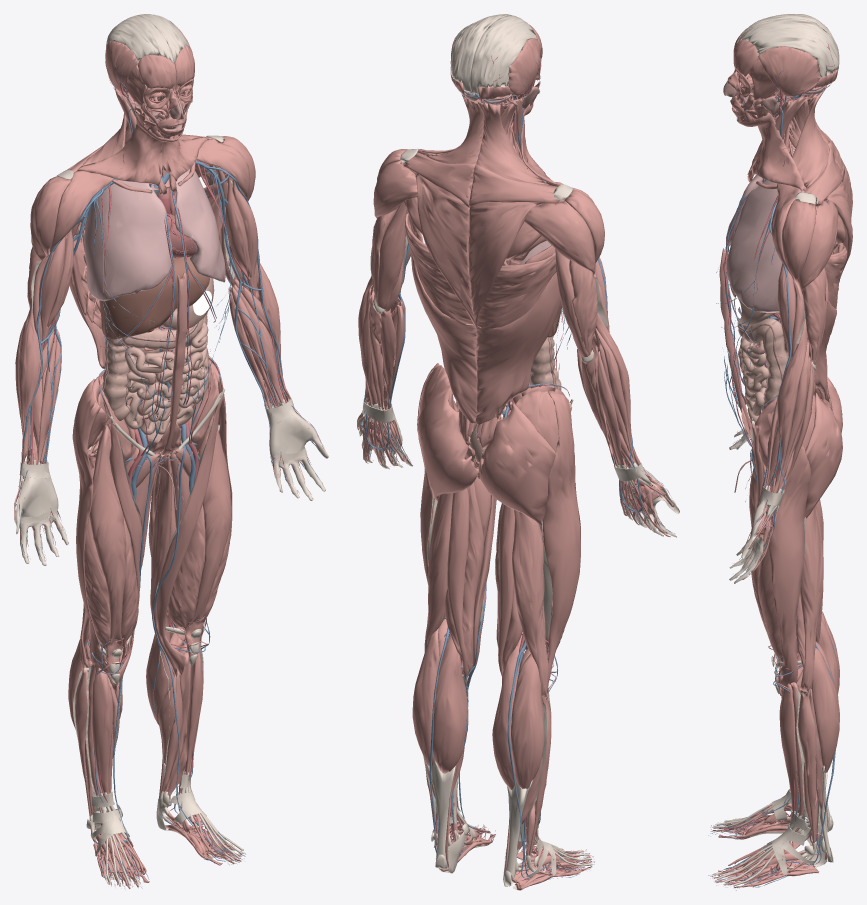
File: soma-anatomy.glb
3 renders of one model, left to right at view 1: azimuth 30°, elevation 25°; view 2: azimuth 150°, elevation 25°; view 3: azimuth 270°, elevation 25°, orthographic. The views are drawn at different scales.
Visible parts, largest first — view 1: Lateral rectus muscle.l; view 2: Lateral rectus muscle.l; view 3: Lateral rectus muscle.l.
Part boxes in pixels (box(x1,y1,x2,y2)): Lateral rectus muscle.l: box(14, 14, 328, 888); Lateral rectus muscle.l: box(357, 14, 679, 890); Lateral rectus muscle.l: box(708, 14, 852, 890).
Bounding box in the file's own units: 0.6706 × 1.7 × 0.2664.
2 materials, 2 textured.
